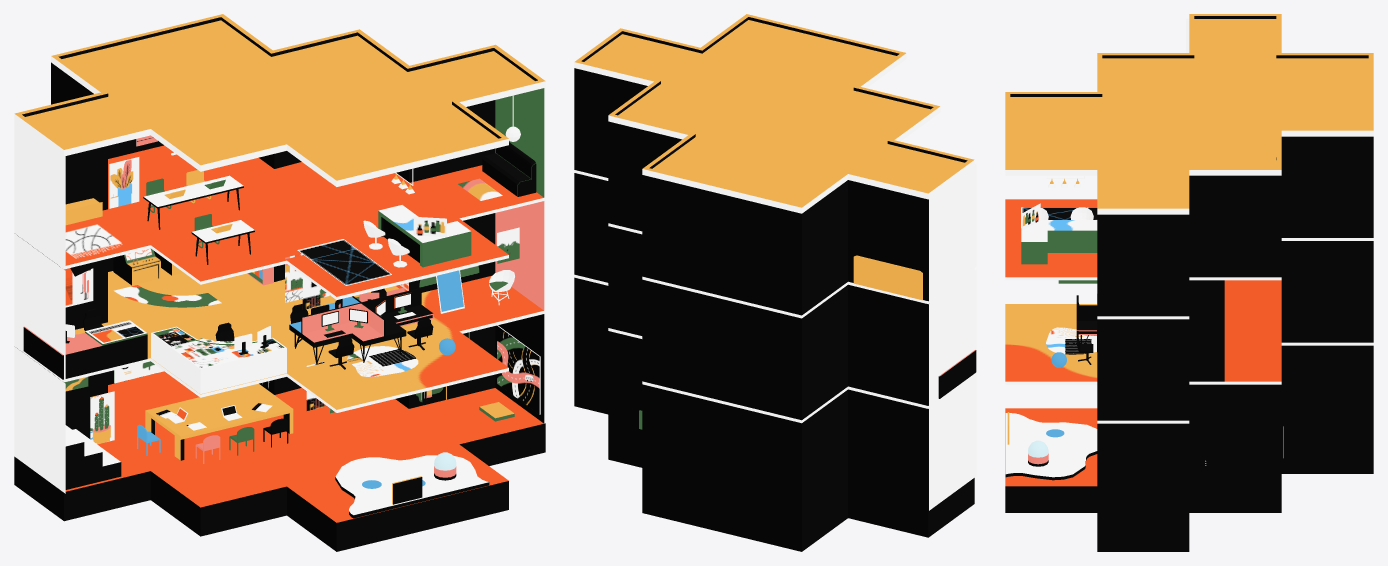
The model's file is 1114_游戏楼.fbx.
3 renders of one model, left to right at view 1: azimuth 30°, elevation 25°; view 2: azimuth 150°, elevation 25°; view 3: azimuth 270°, elevation 25°, orthographic. The views are drawn at different scales.
Parts seen in each view (by area): view 1: building, galss, desk, galss_2, bigstage, galss_1, meeting_table, floor, bar_table, screen, step, table_9 (+17 smaller); view 2: building, galss, galss_2, galss_1, sofa, floor; view 3: building, bigstage, bar_table, carpet_4, table_9_1, carpet, container.
Part boxes in pixels (x1,y1,x2,y2): building: [14, 14, 545, 551]; galss: [14, 119, 65, 267]; desk: [151, 326, 286, 394]; galss_2: [14, 346, 65, 493]; bigstage: [335, 455, 489, 518]; galss_1: [14, 233, 65, 380]; meeting_table: [145, 383, 293, 460]; floor: [23, 326, 147, 379]; bar_table: [378, 205, 471, 267]; screen: [497, 325, 540, 414]; step: [65, 425, 121, 489]; table_9: [301, 303, 384, 364]; building: [574, 14, 974, 551]; galss: [929, 163, 976, 300]; galss_2: [929, 374, 976, 510]; galss_1: [929, 269, 976, 405]; sofa: [853, 255, 922, 300]; floor: [938, 350, 976, 398]; building: [1005, 14, 1373, 551]; bigstage: [1005, 413, 1097, 480]; bar_table: [1021, 220, 1097, 264]; carpet_4: [1046, 327, 1096, 354]; table_9_1: [1076, 305, 1097, 351]; carpet: [1021, 207, 1097, 227]; container: [1028, 440, 1048, 466].
Size of the model in its own units: 1405 by 1150 by 1119.
